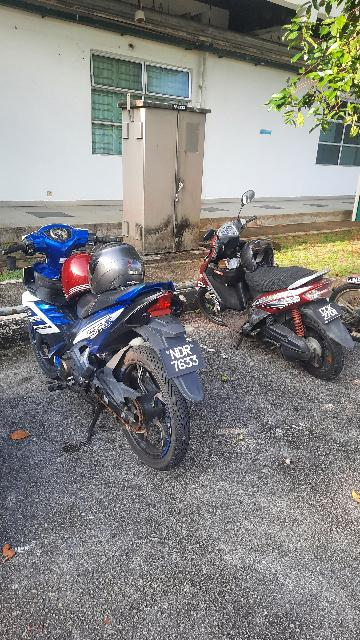License_Plate: (158, 340, 213, 381), (312, 301, 354, 327)
motorcycle: (4, 214, 216, 474), (187, 219, 360, 387)
